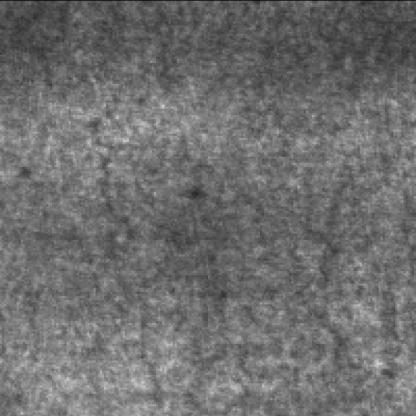crazing: (86, 108, 169, 414), (303, 143, 416, 366)
